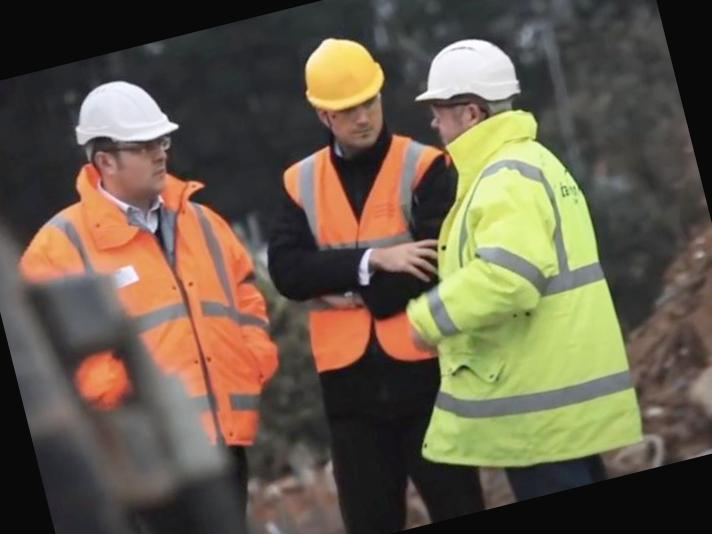helmet: (60, 62, 188, 162), (401, 27, 526, 122), (290, 22, 396, 122)
person: (245, 15, 523, 534), (394, 15, 662, 505), (40, 48, 315, 521)
